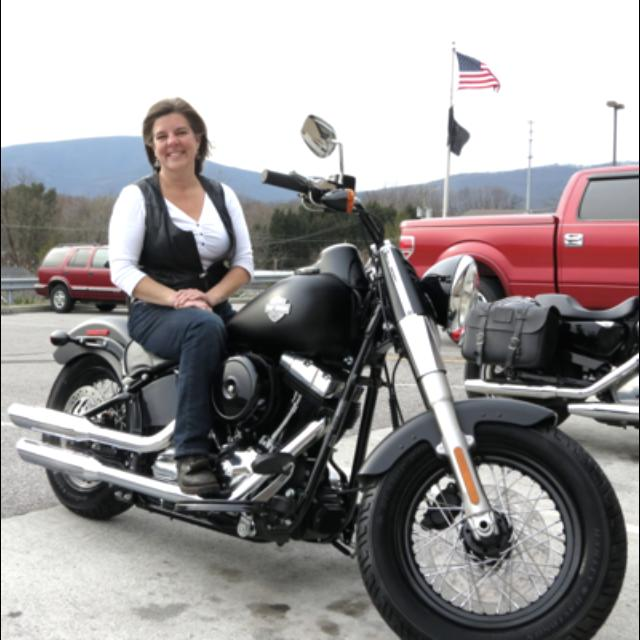Without Helmet: (129, 87, 219, 189)
